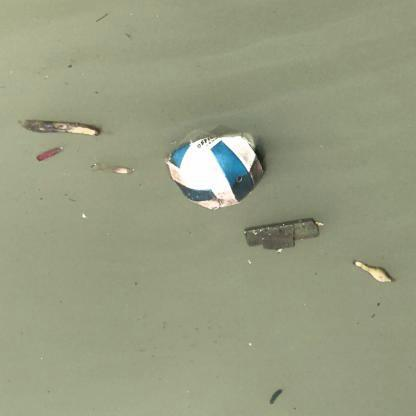Trash: (163, 136, 267, 211)
